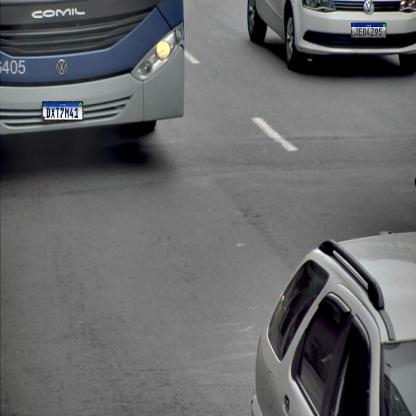PlacaM: (42, 101, 83, 121), (351, 23, 386, 38)
